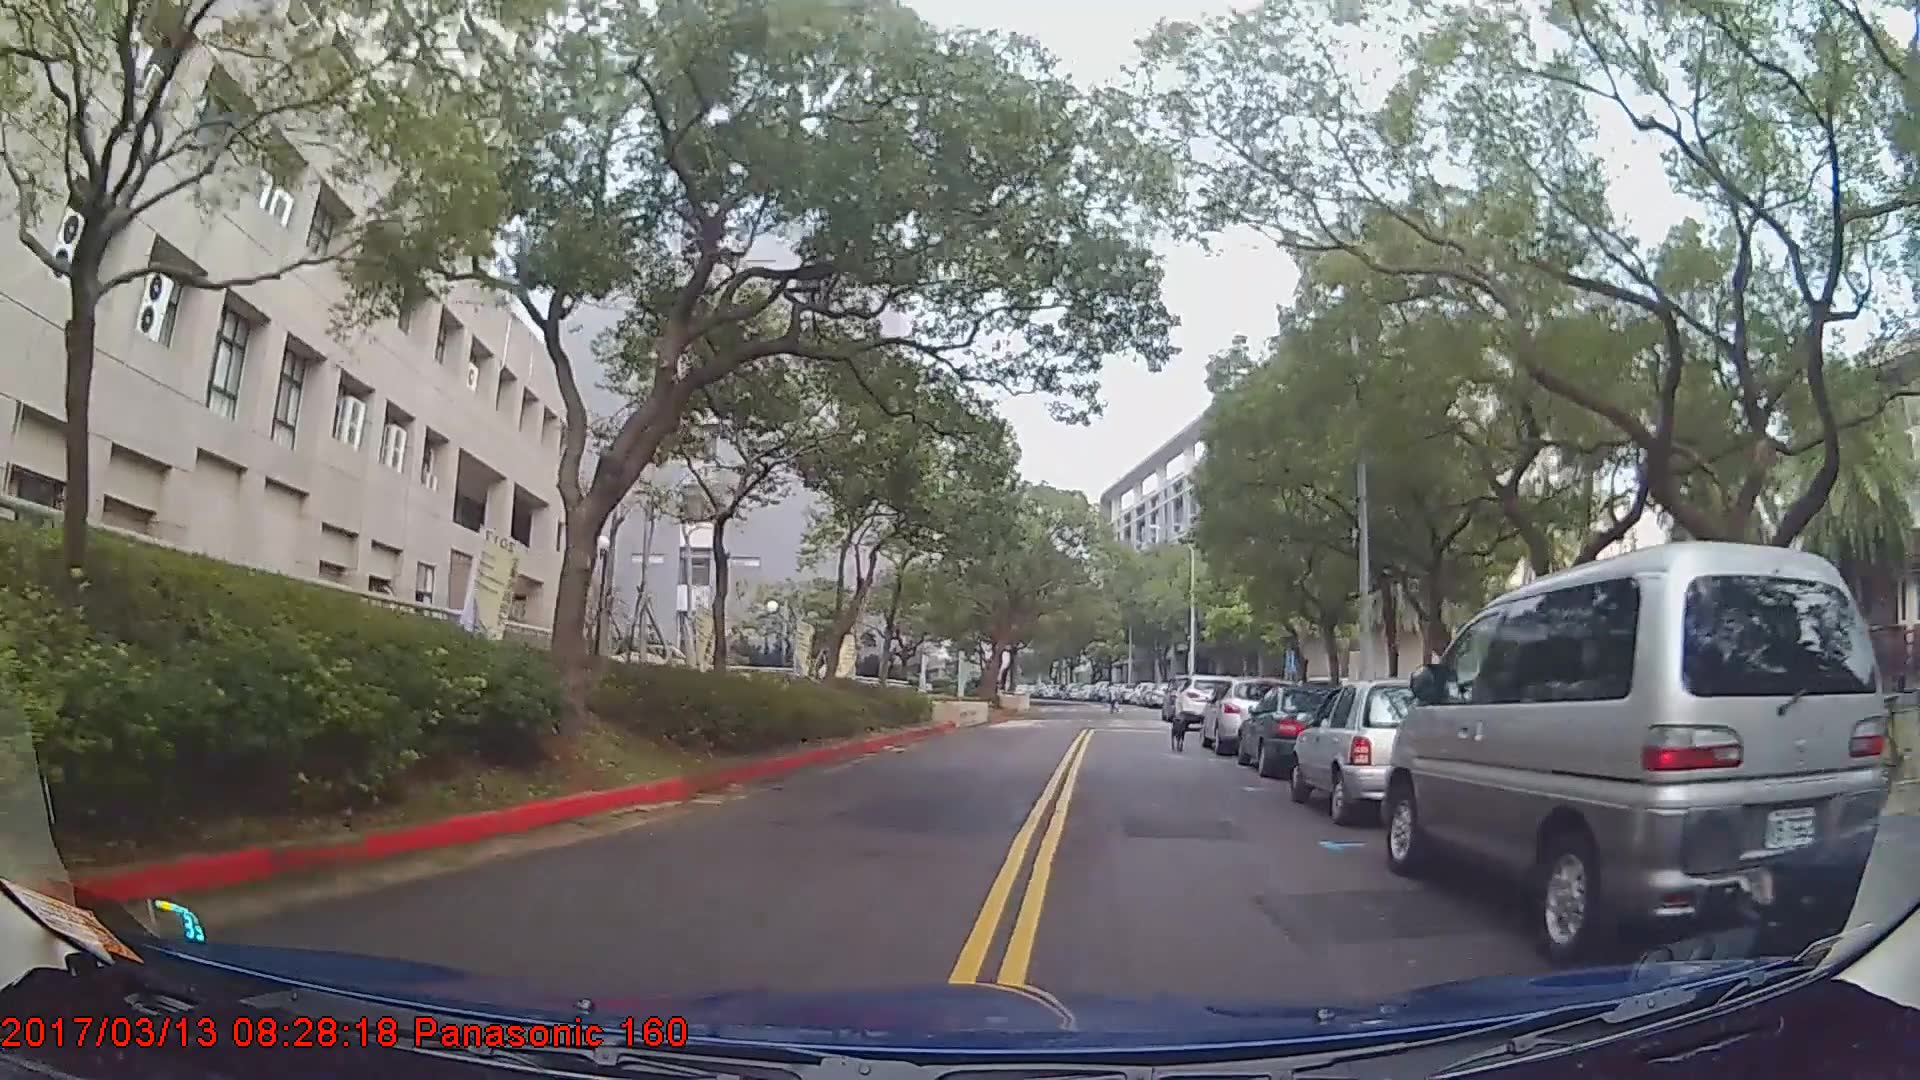vehicle: (1383, 537, 1891, 957), (1290, 678, 1484, 827), (1201, 675, 1294, 754), (1174, 674, 1238, 729)
